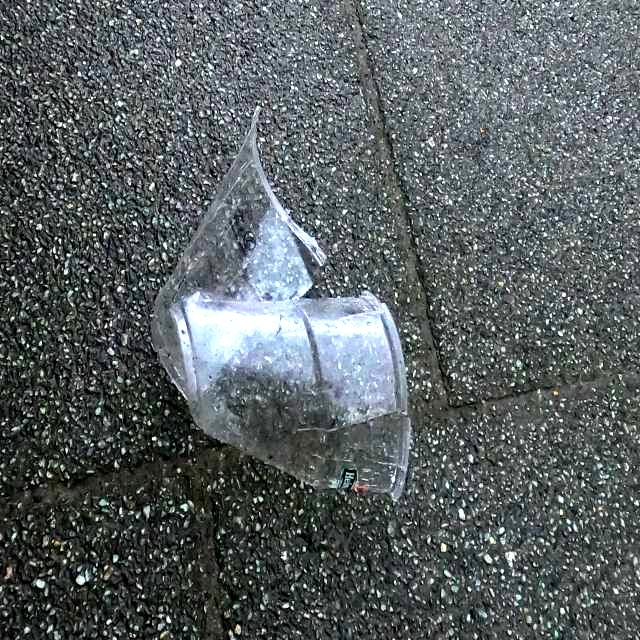Coffee Cup: (144, 96, 414, 508)
